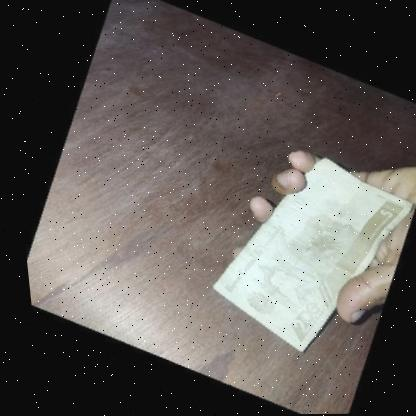five-back-vef: (185, 140, 416, 368)
